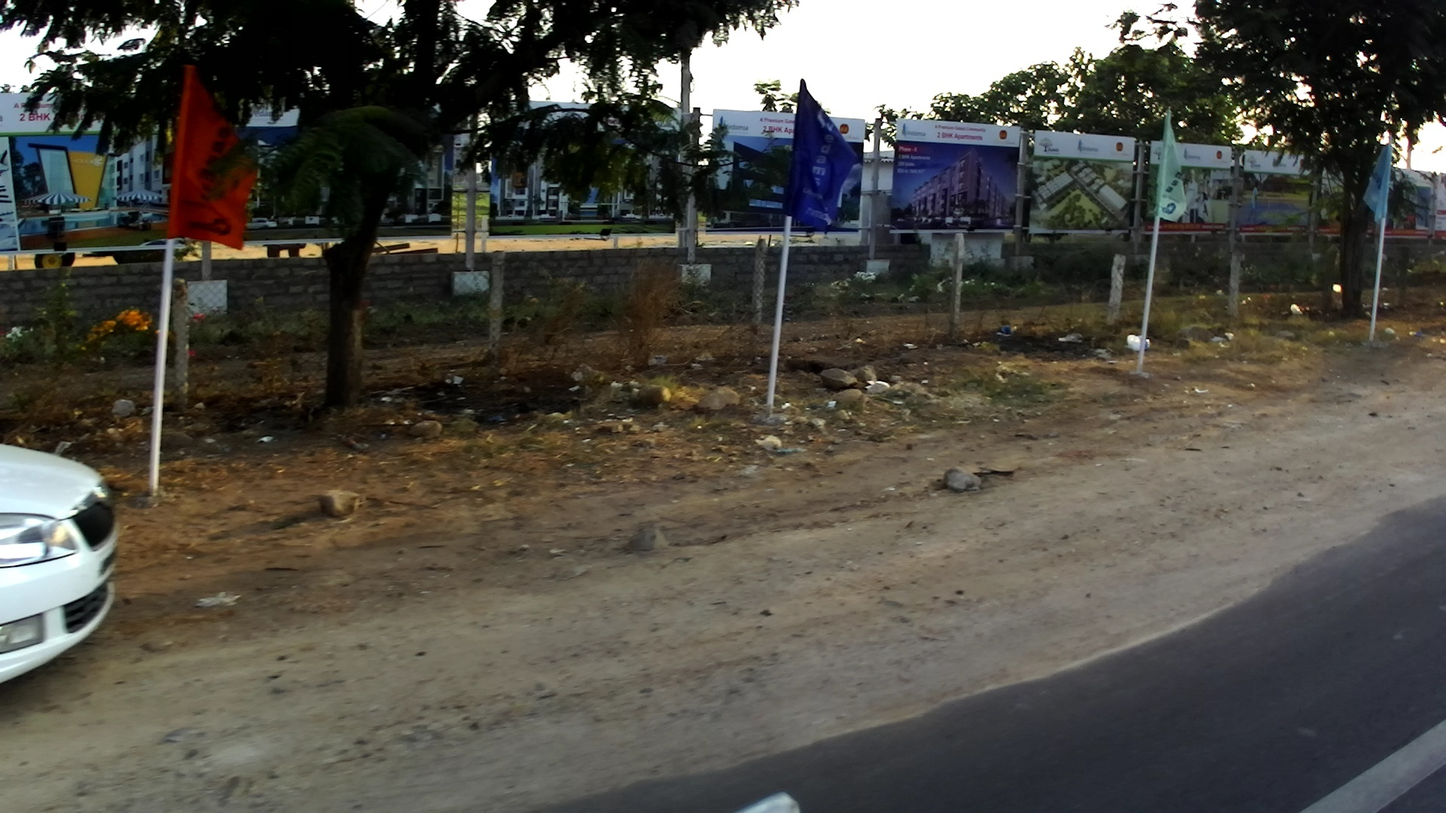car: (1, 428, 127, 702)
vehicle fallback: (35, 251, 189, 268)
